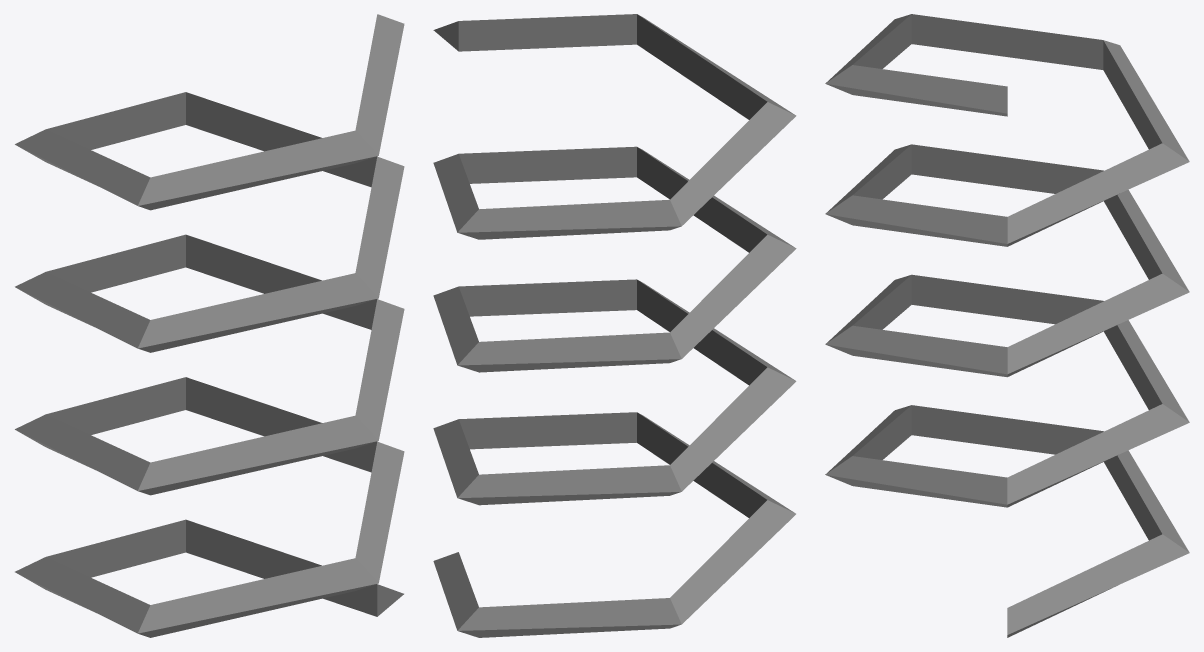
File: Spring.fbx
3 views of the same model, side by side, from view 1: azimuth 30°, elevation 25°; view 2: azimuth 150°, elevation 25°; view 3: azimuth 270°, elevation 25° (orthographic). The views are drawn at different scales.
Parts seen in each view (by area): view 1: Spring; view 2: Spring; view 3: Spring.
Part boxes in pixels (x1,y1,x2,y2): Spring: (15,14,404,637); Spring: (433,14,796,637); Spring: (825,14,1189,637).
Bounding box in the file's own units: 16.2 × 28.42 × 17.03.
1 material, 1 textured.
